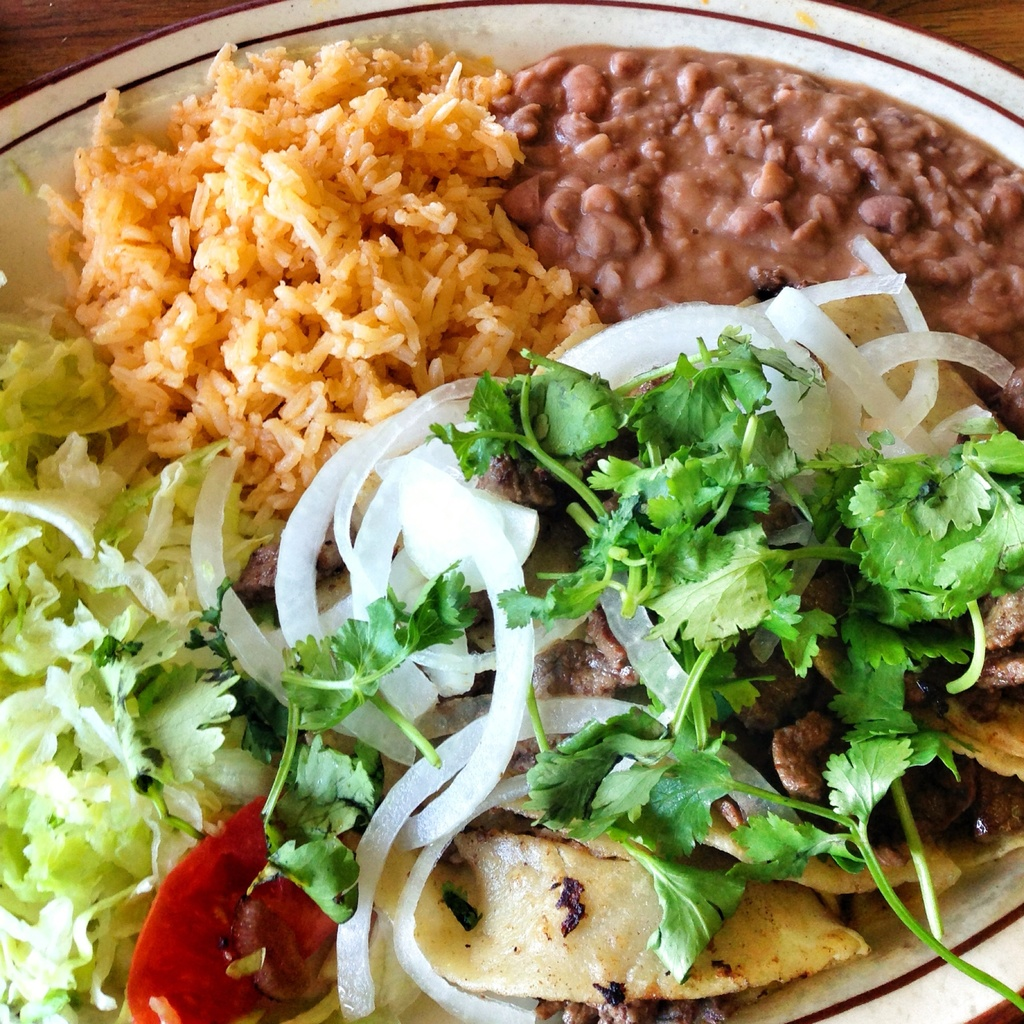taco: (188, 236, 1023, 1023)
